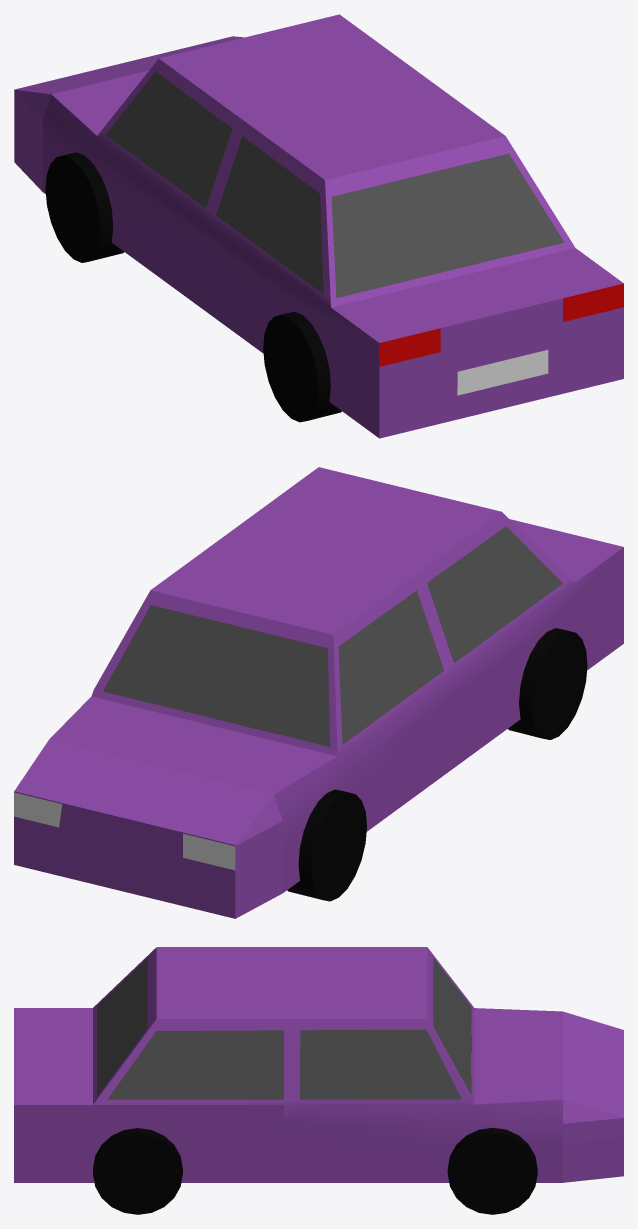
File: carPurple.fbx
3 renders of one model, top to bottom at view 1: azimuth 30°, elevation 25°; view 2: azimuth 150°, elevation 25°; view 3: azimuth 270°, elevation 25°, orthographic. The views are drawn at different scales.
Visible parts, largest first — view 1: pasted__pCube1, pasted__pasted__pCylinder1, pasted__pCylinder1; view 2: pasted__pCube1, pasted__pCylinder1, pasted__pasted__pCylinder1; view 3: pasted__pCube1, pasted__pasted__pasted__pCylinder1, pasted__pasted__pasted__pasted__pCylinder1.
Boxes of the visible parts, bbox=[...] form: pasted__pCube1: bbox=[14, 14, 623, 438]; pasted__pasted__pCylinder1: bbox=[45, 152, 123, 262]; pasted__pCylinder1: bbox=[263, 312, 341, 422]; pasted__pCube1: bbox=[14, 467, 623, 918]; pasted__pCylinder1: bbox=[508, 628, 587, 739]; pasted__pasted__pCylinder1: bbox=[287, 789, 366, 901]; pasted__pCube1: bbox=[14, 947, 623, 1182]; pasted__pasted__pasted__pCylinder1: bbox=[447, 1127, 537, 1214]; pasted__pasted__pasted__pasted__pCylinder1: bbox=[93, 1128, 182, 1214].
Bounding box in the file's own units: 4.3 × 3.32 × 10.29.
